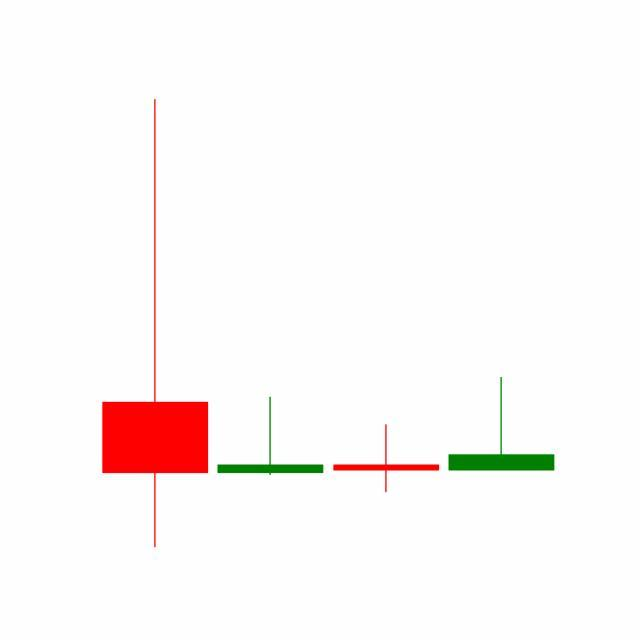Spinning Top: (329, 424, 445, 494)
